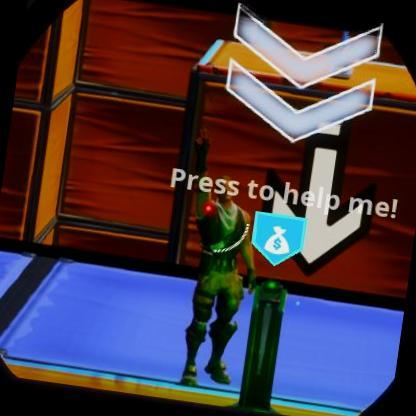person: (160, 154, 258, 367)
